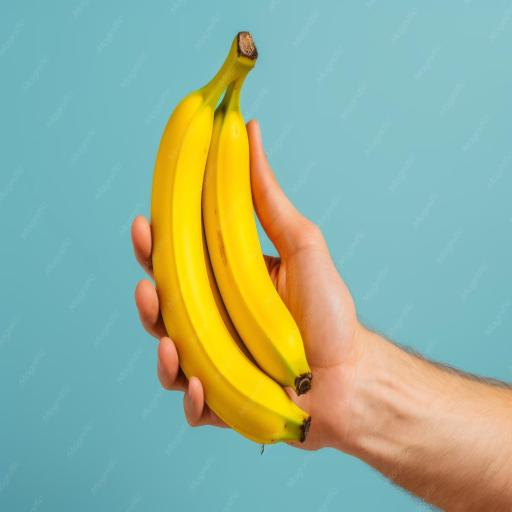banana: (151, 33, 310, 443), (203, 77, 311, 394)
